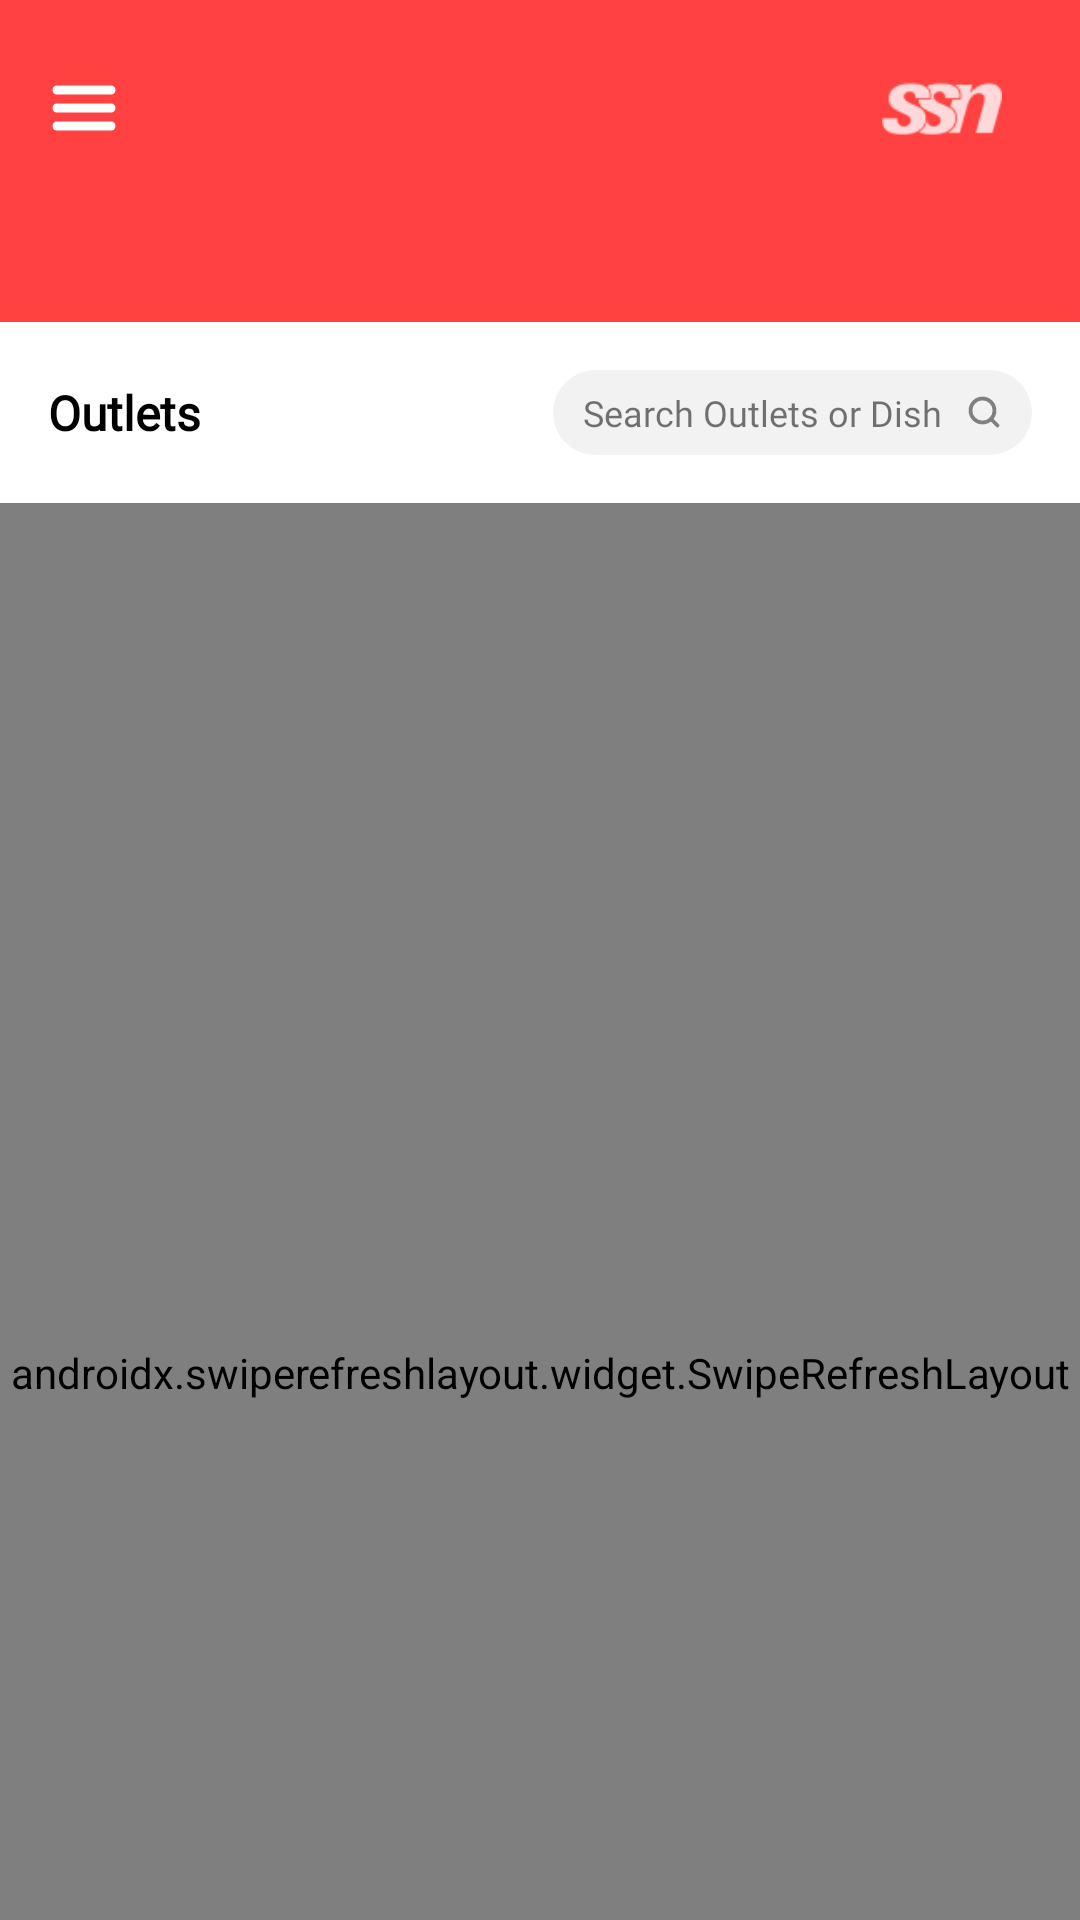

Named icons in this screenshot (1080x1920) and their bounding boxes, (x1=x1, y1=y1, x2=x2, y2=y2):
menu: (x1=52, y1=85, x2=116, y2=131)
